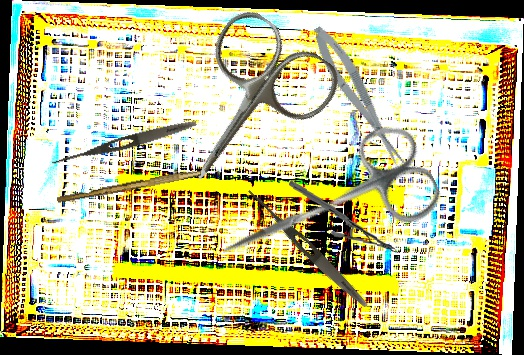Dressing Forceps: (241, 184, 372, 312), (50, 116, 198, 171)
Iris Scissors: (202, 114, 448, 302), (145, 2, 348, 215)
Micro Scissor: (306, 20, 410, 173)
Needle Holder: (284, 180, 400, 253)
Scalpel Handle: (56, 165, 202, 207)
